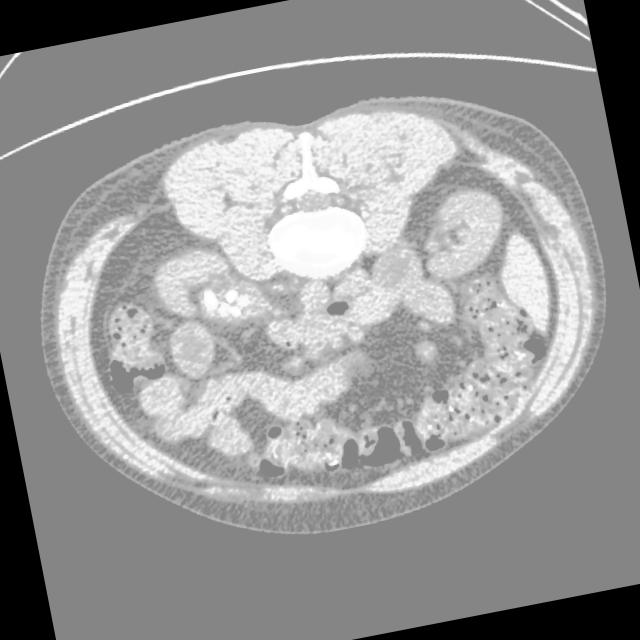STONE: (93, 241, 329, 484)
